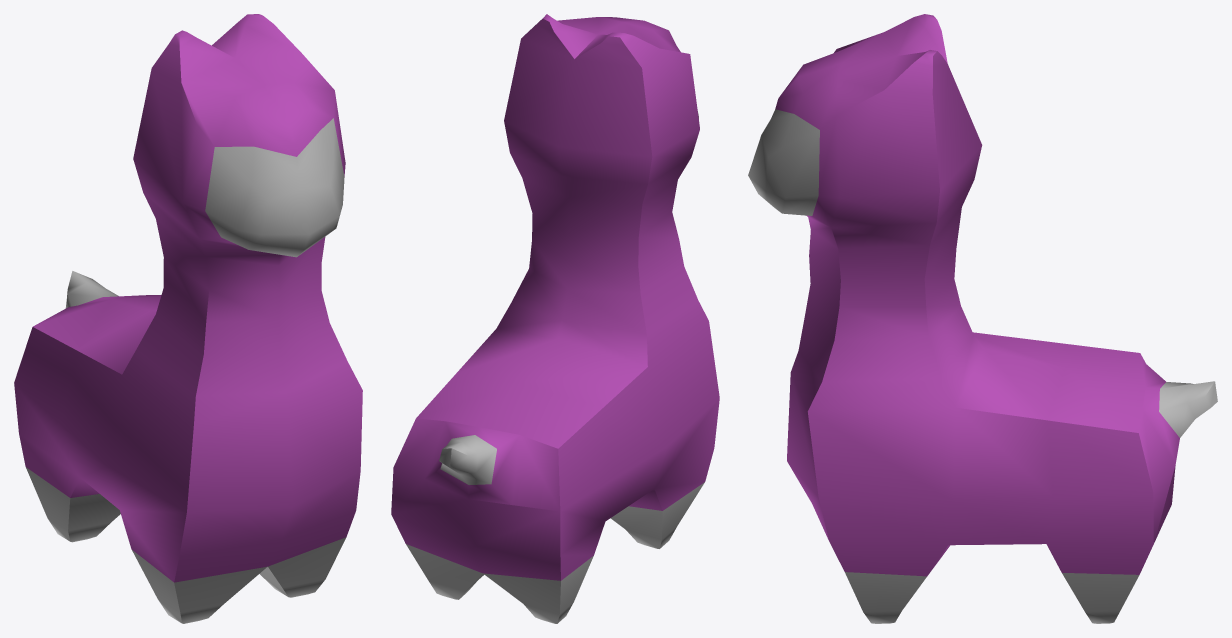
Rendered from SuperLowPoly_V2.fbx.
3 renders of one model, left to right at view 1: azimuth 30°, elevation 25°; view 2: azimuth 150°, elevation 25°; view 3: azimuth 270°, elevation 25°, orthographic. The views are drawn at different scales.
Visible parts, largest first — view 1: Llama_Model; view 2: Llama_Model; view 3: Llama_Model.
Part boxes in pixels (bbox=[...]): Llama_Model: bbox=[14, 14, 362, 623]; Llama_Model: bbox=[391, 14, 719, 623]; Llama_Model: bbox=[748, 14, 1217, 623].
Size of the model in its own units: 14.14 by 38.45 by 29.23.
